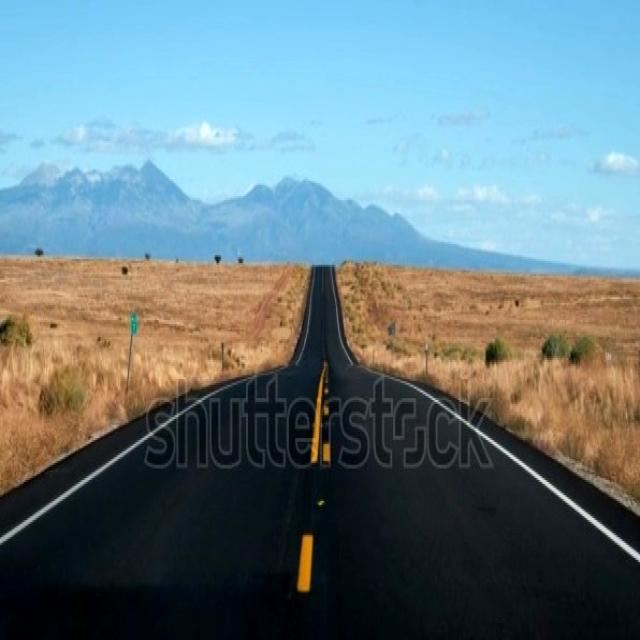lane: (310, 362, 326, 463), (321, 362, 330, 465), (296, 533, 312, 590), (322, 440, 330, 465)
road: (0, 267, 639, 636)
